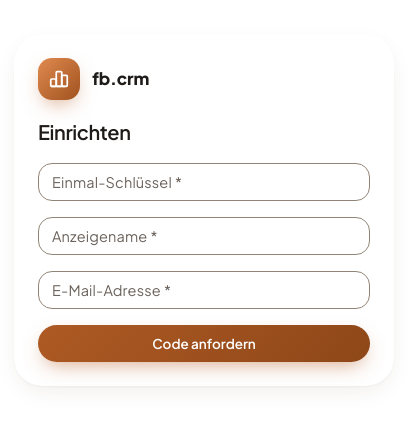
Einrichtungsseite, Schritt Angaben › sagt ohne technische Einzelheiten, wenn die Schnittstelle nicht antwortet
The width and height of the screenshot is (409, 448).
Type "einmal" into the field labelled "Einmal-Schlüssel *" at x=204, y=182, box [38,163,370,201]
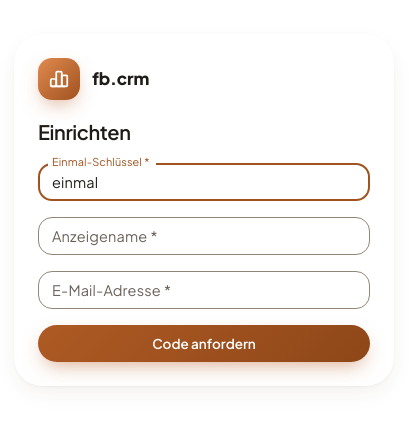
Type "Manfred Wolff" into the field labelled "Anzeigename *" at x=204, y=236, box [38,217,370,255]
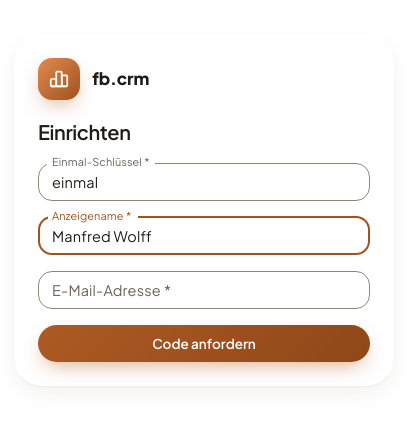
Type "info@mwolff.org" into the field labelled "E-Mail-Adresse *" at x=204, y=290, box [38,271,370,309]
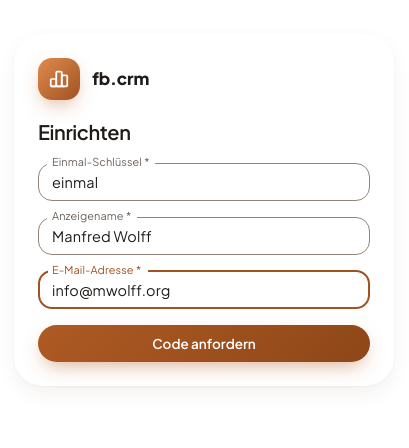
Click the button "Code anfordern" at x=204, y=343, box [38,325,370,362]
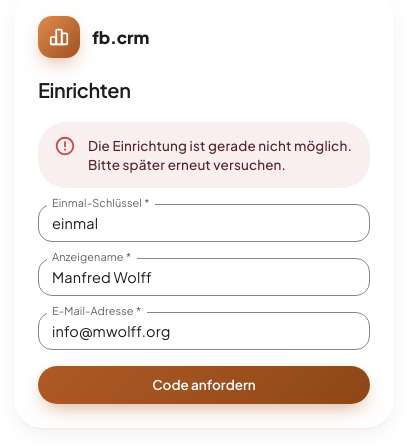
Now the message reads "Die Einrichtung ist gerade nicht möglich. Bitte später erneut versuchen.", box [88,137,352,173]
